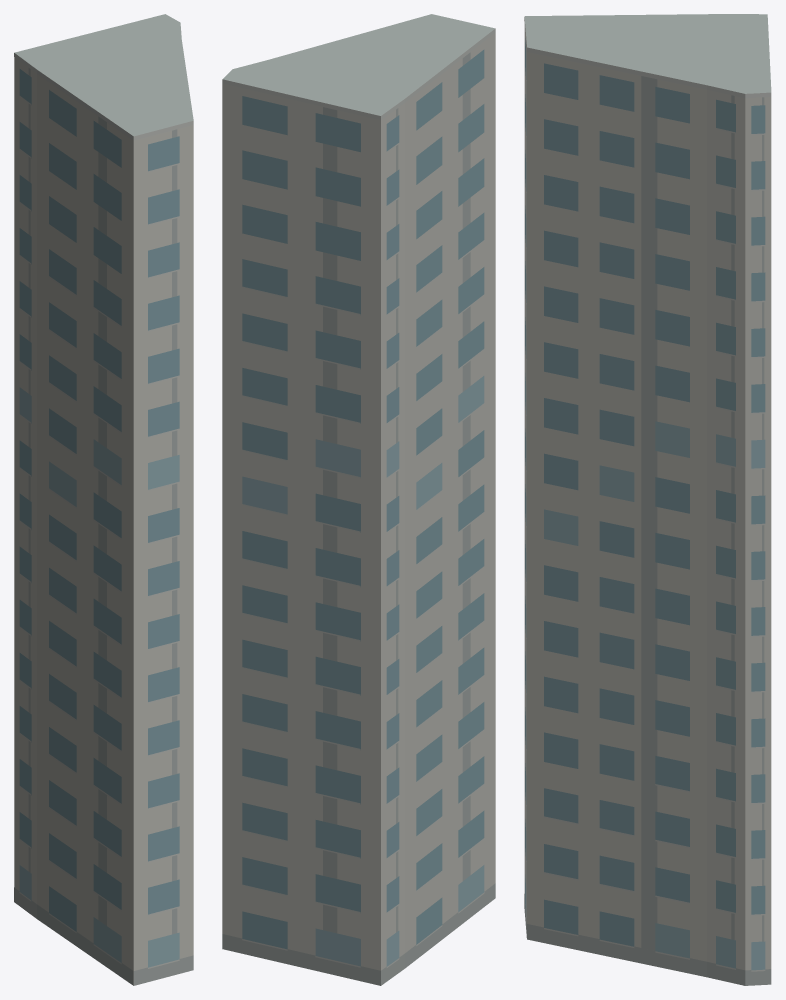
The model's file is survey-upis-32697843.glb.
The picture shows the model from 3 angles, left to right: view 1: azimuth 30°, elevation 25°; view 2: azimuth 150°, elevation 25°; view 3: azimuth 270°, elevation 25°; orthographic projection. The views are drawn at different scales.
Parts seen in each view (by area): view 1: survey-upis-32697843.tmp; view 2: survey-upis-32697843.tmp; view 3: survey-upis-32697843.tmp.
Part boxes in pixels (x1,y1,x2,y2): survey-upis-32697843.tmp: [14, 14, 193, 985]; survey-upis-32697843.tmp: [222, 14, 495, 985]; survey-upis-32697843.tmp: [524, 14, 771, 985].
Bounding box in the file's own units: 9.39 × 48.8 × 12.25.
